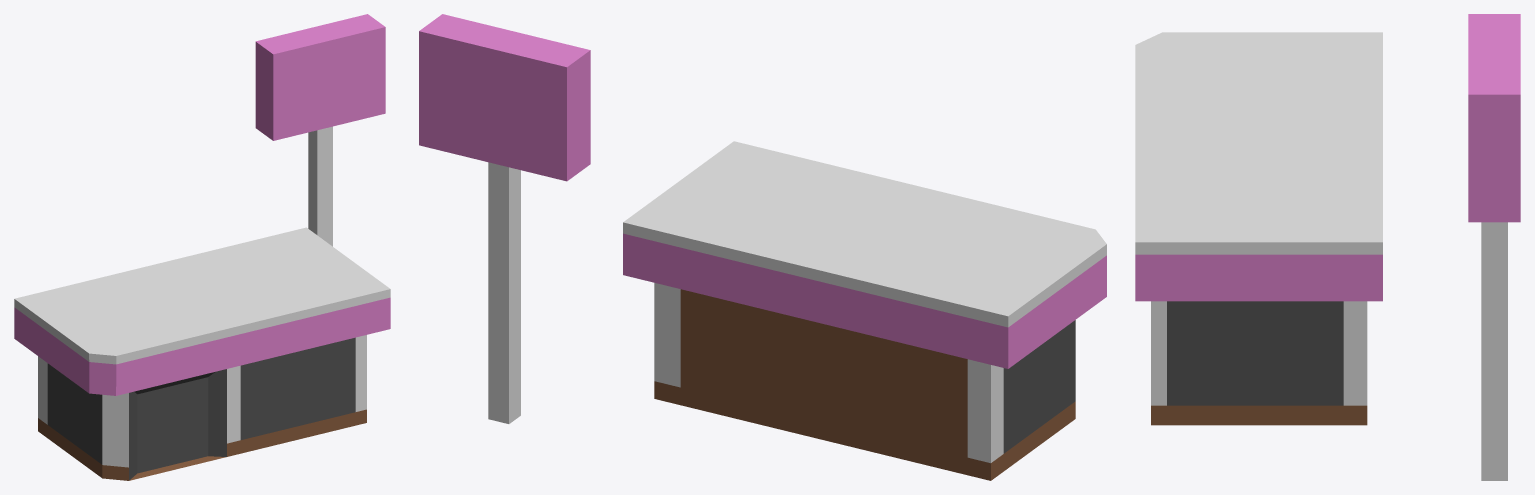
File: convinience store_sign.fbx
3 views of the same model, side by side, from view 1: azimuth 30°, elevation 25°; view 2: azimuth 150°, elevation 25°; view 3: azimuth 270°, elevation 25° (orthographic). The views are drawn at different scales.
Visible parts, largest first — view 1: Cube, Cube.001; view 2: Cube, Cube.001; view 3: Cube, Cube.001.
Boxes of the visible parts, <box> form: Cube: <box>14,227,390,480</box>; Cube.001: <box>255,14,385,246</box>; Cube: <box>623,141,1106,480</box>; Cube.001: <box>419,14,590,423</box>; Cube: <box>1135,32,1382,425</box>; Cube.001: <box>1468,14,1520,480</box>.
Bounding box in the file's own units: 629 × 429 × 356.
